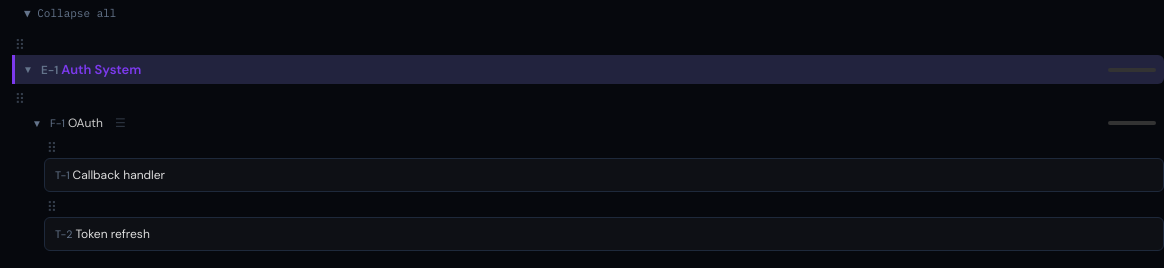
Test: BacklogTree › collapses all epics and features when collapse all is clicked
This screenshot has width=1164, height=268.
Check: the text "OAuth" is shown, box x1=68 y1=115 x2=103 y2=131
Check: the text "Callback handler" is shown, box x1=73 y1=167 x2=165 y2=183
// Click collapse all
Click the button "▼ Collapse all" at (70, 13), box x1=20 y1=4 x2=120 y2=22
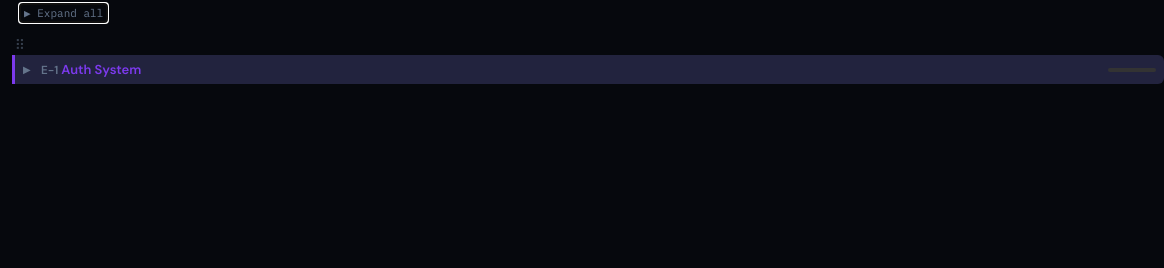
Check: the text "OAuth" is gone
Check: the text "Callback handler" is gone
Check: the button "▶ Expand all" is shown, box x1=20 y1=4 x2=107 y2=22
